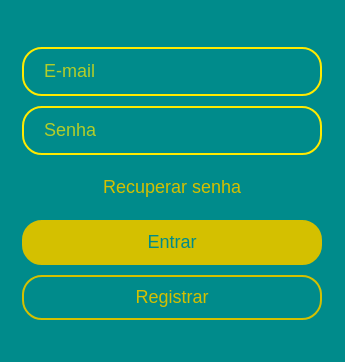
Test: Login › Dado email, caso seja apagado, mostrar mensagem de erro email obrigatório
This screenshot has width=345, height=362.
Type "qualquerValor" into the field with test id "email" at (172, 71), box [22,46,322,96]
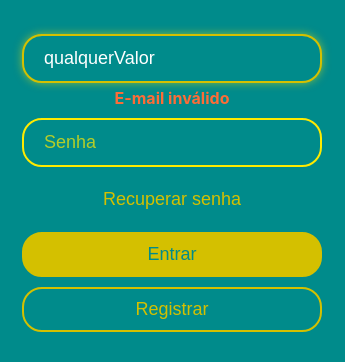
Clear the field with test id "email" at (172, 58), box [22,34,322,83]
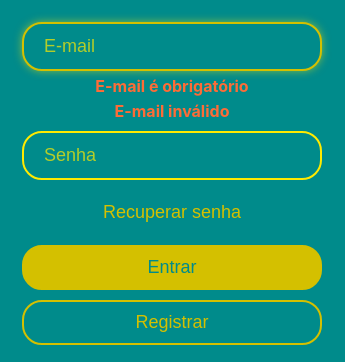
Expected: the text "E-mail é obrigatório" is shown, [95,76,249,96]
